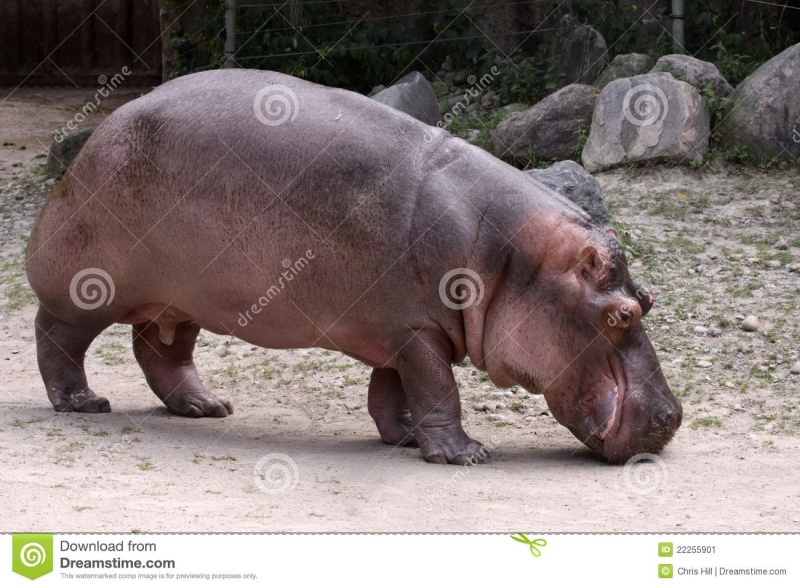hipopotamo: (25, 68, 688, 470)
